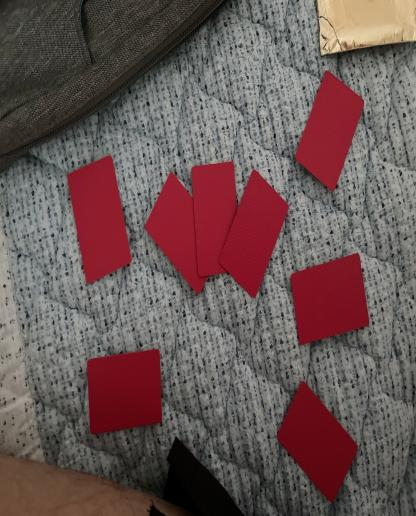ThreeHwatoo: (138, 137, 291, 309)
